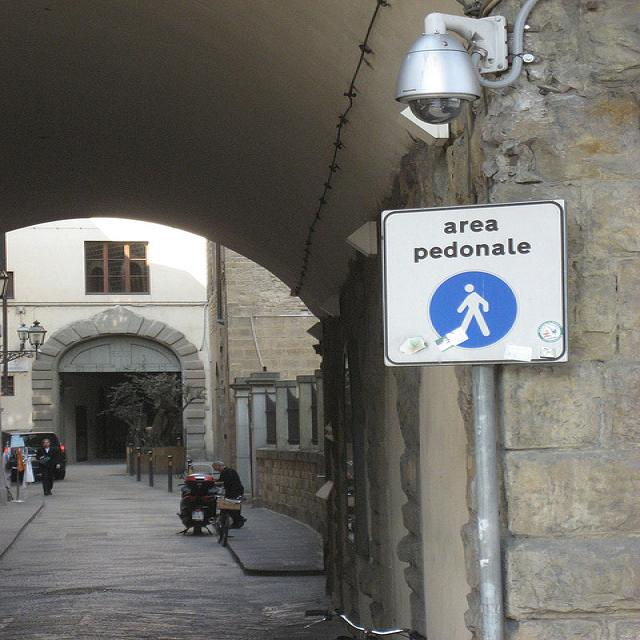motor: (175, 473, 225, 535)
